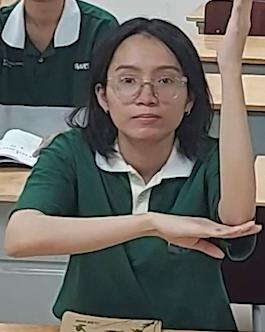Raising_Hand: (3, 4, 265, 297)
